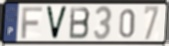0: (118, 8, 138, 39)
3: (93, 5, 114, 42)
7: (143, 5, 162, 42)
B: (68, 6, 92, 40)
F: (20, 6, 44, 40)
V: (44, 5, 69, 42)
